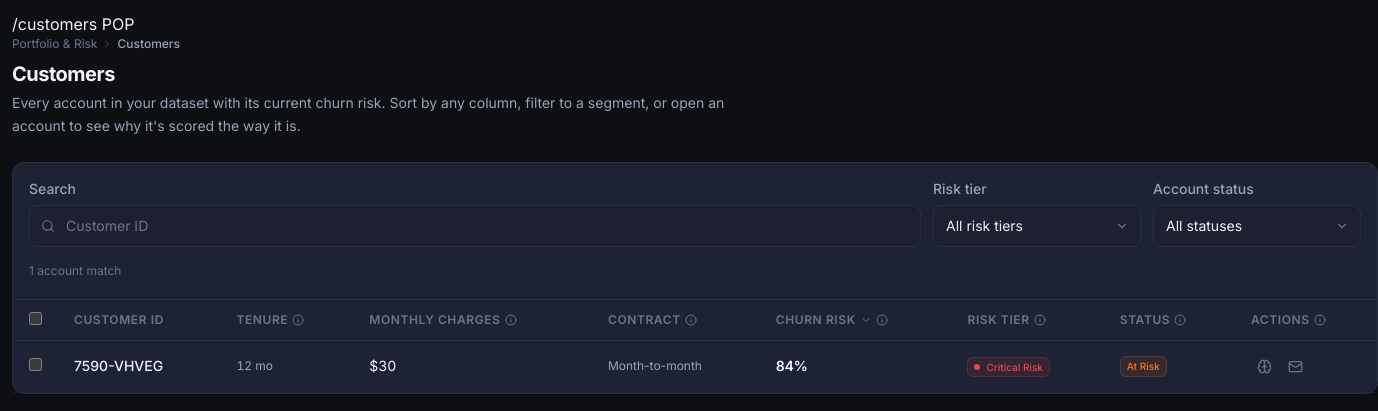
Test case: Customers — filters live in the URL › writes a filter change to the URL without stacking history entries
Expected: the button named "view explainability for 7590-VHVEG" is shown, x1=1251 y1=352 x2=1278 y2=380
Select "Critical (80%+)" in the dropdown labelled "Risk tier". click: (1037, 226)
box: x1=933 y1=204 x2=1141 y2=246
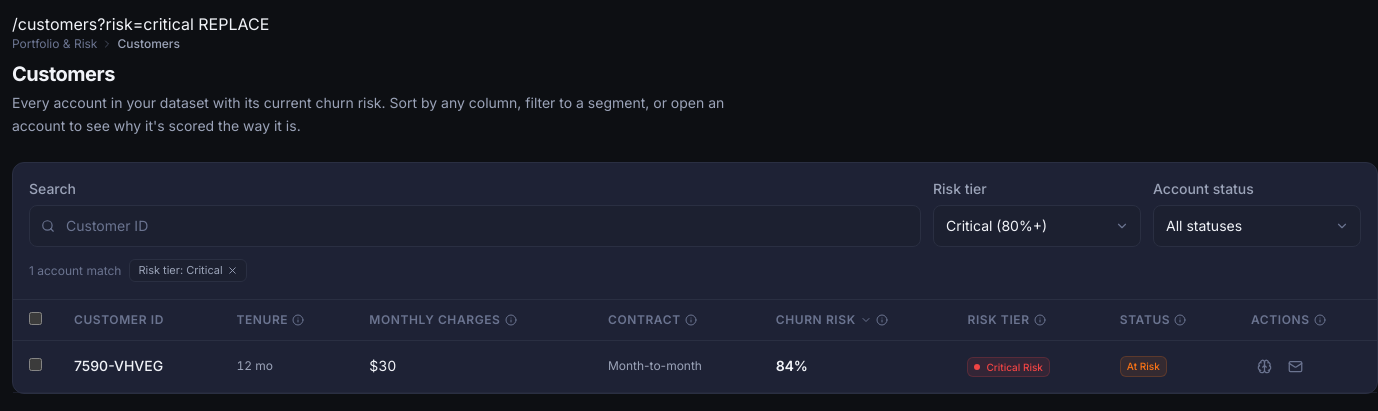
Expected: the text with test id "probe" reads "/customers?risk=critical REPLACE", x1=12 y1=14 x2=269 y2=34
Expected: the button "Risk tier: Critical" is shown, x1=129 y1=259 x2=247 y2=282
